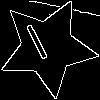I: (22, 22, 56, 70)
